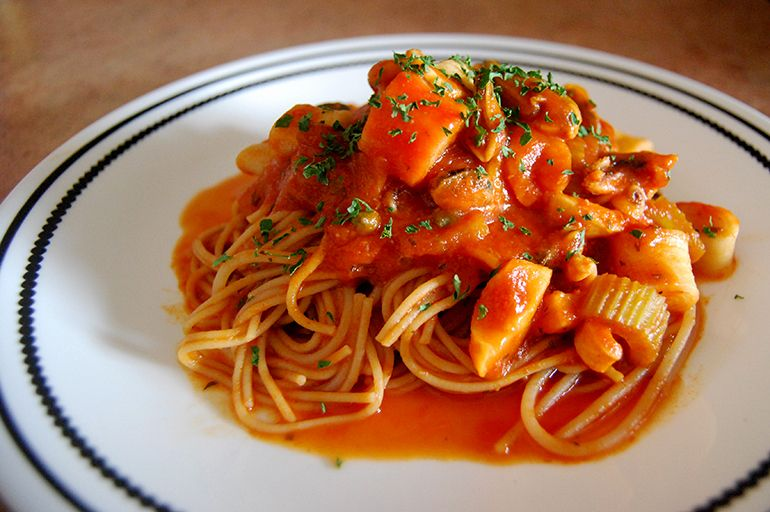plain spaghetti: (199, 228, 655, 411)
